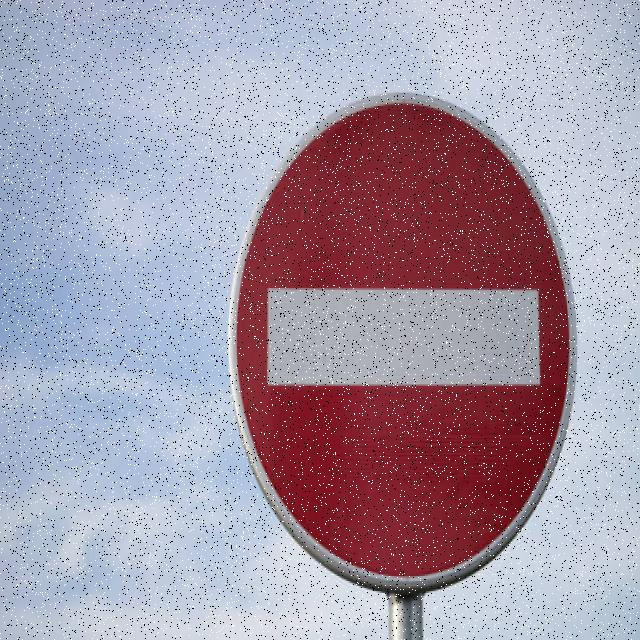do_not_enter: (212, 91, 586, 594)
